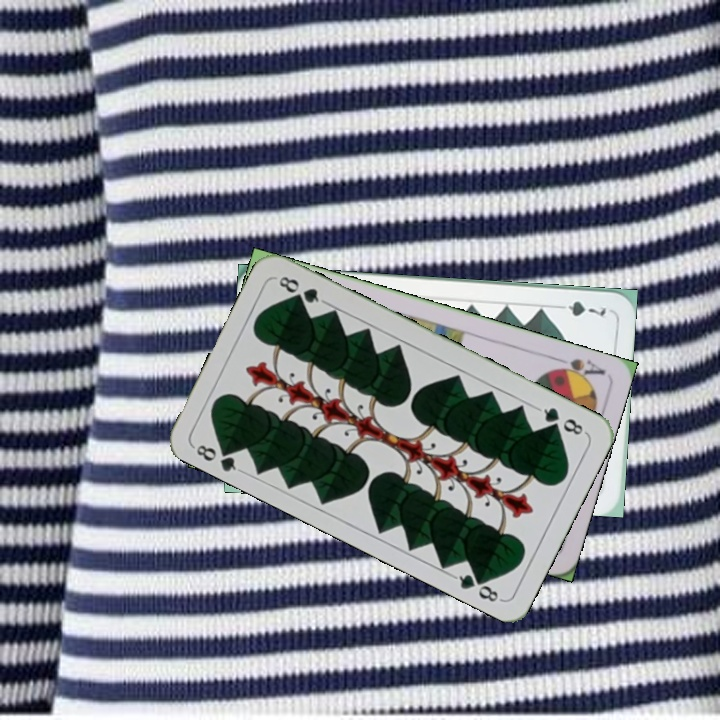G7: (551, 297, 608, 319)
G8: (189, 439, 245, 476), (533, 403, 589, 438)
SA: (546, 353, 608, 384)
